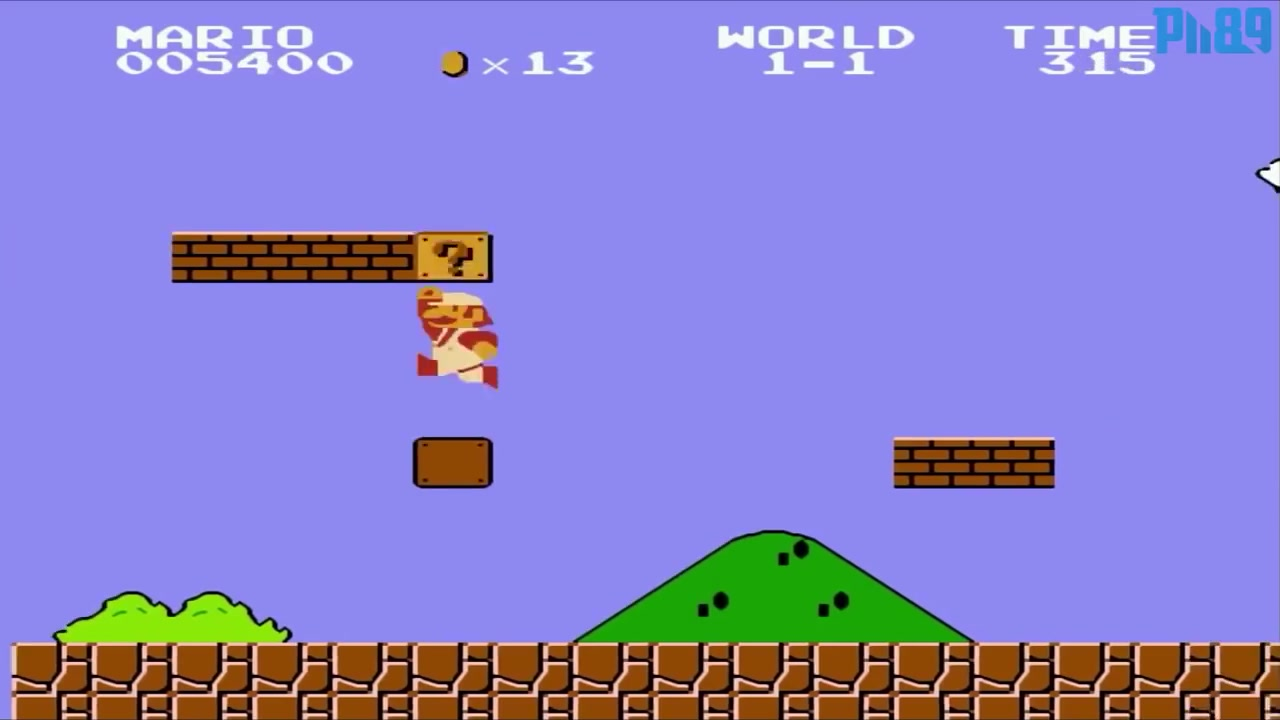mario: (406, 281, 503, 394)
